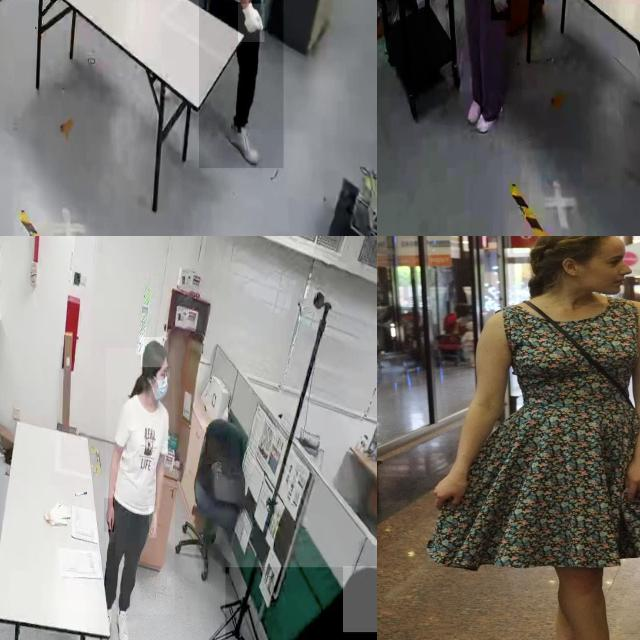face_mask: (150, 366, 172, 401)
hand_glove: (238, 3, 265, 42), (490, 0, 511, 21)
hand_noglove: (104, 498, 114, 532), (149, 506, 157, 539)
head_nohelmet: (343, 566, 377, 632), (141, 337, 169, 368)
person: (106, 348, 176, 615), (199, 0, 284, 169), (225, 567, 377, 640), (445, 0, 522, 126)
shoes: (222, 112, 261, 165), (464, 92, 486, 124), (114, 606, 132, 640)
